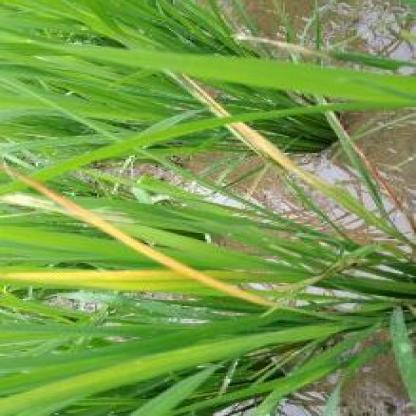Tungro: (3, 164, 281, 307), (4, 273, 227, 295)
